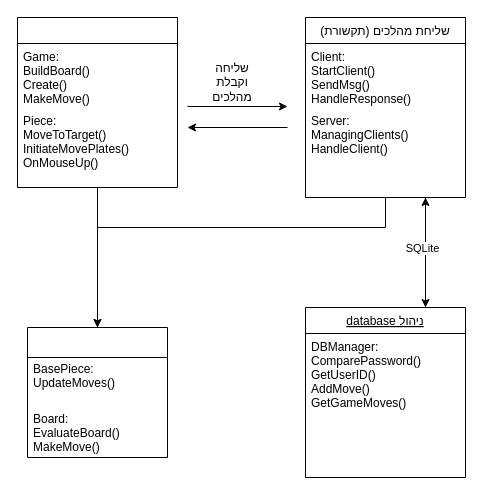
The diagram is 483 pixels wide and 495 high, and some of its shapes have lost their labels. Here are the shapes that lost their labels. From the top down, the box of each, then its label:
(16, 16, 178, 188): ניהול המשחק בלקוח
(26, 326, 168, 458): Core (חוקי שח בסיסיים)
